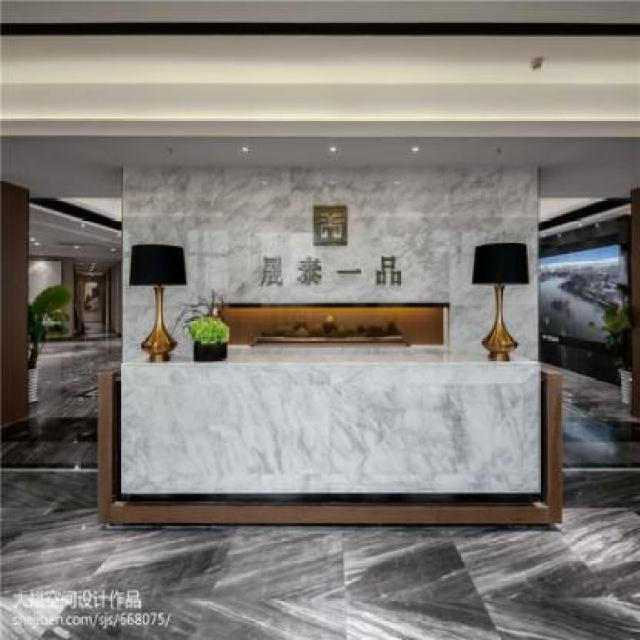frontdesk: (91, 337, 576, 543)
